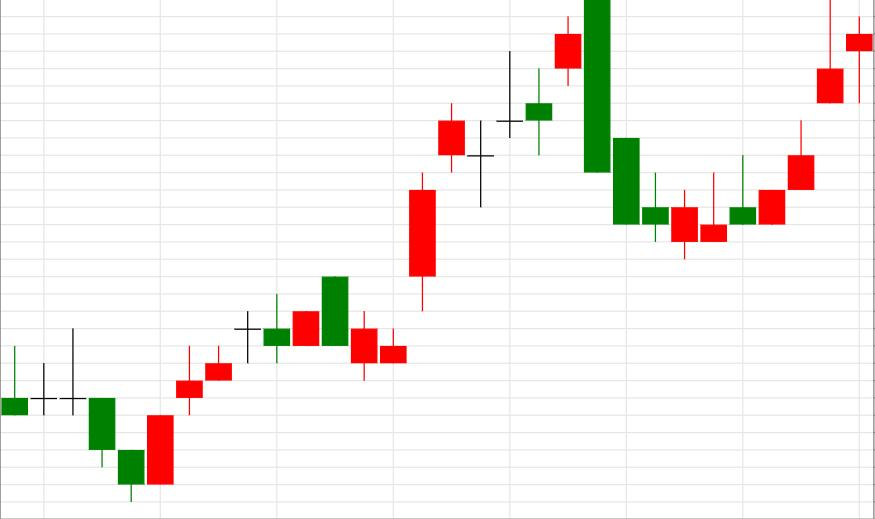bearish_engulfing_fall: (466, 0, 610, 208)
shooting_star_fall: (671, 1, 844, 259)
